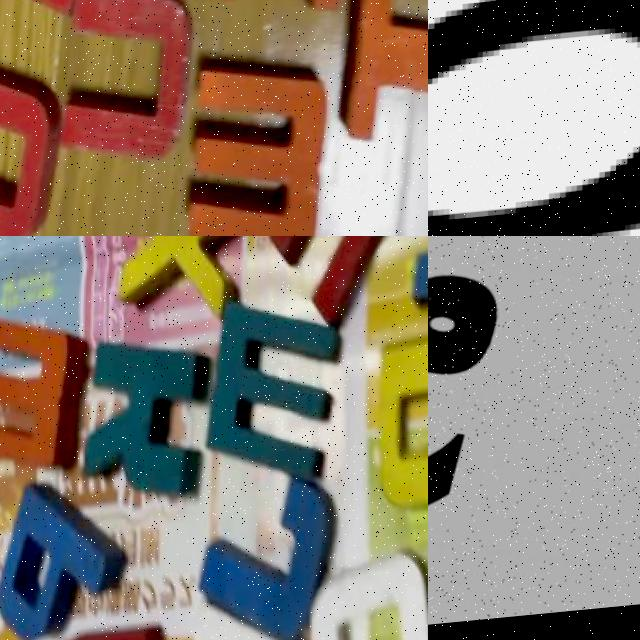8: (428, 236, 517, 405)
9: (428, 381, 495, 562)
D: (428, 0, 640, 236)
H: (184, 613, 313, 640)
I: (354, 0, 428, 235)
J: (208, 485, 339, 640)
K: (89, 342, 205, 515)
M: (213, 299, 344, 494)
O: (0, 65, 70, 236)
P: (0, 477, 123, 640)
Q: (303, 540, 428, 640)
R: (378, 319, 428, 534)
U: (60, 0, 190, 184), (265, 236, 400, 344)
W: (191, 53, 329, 236), (0, 312, 90, 485)
X: (121, 236, 241, 322)
